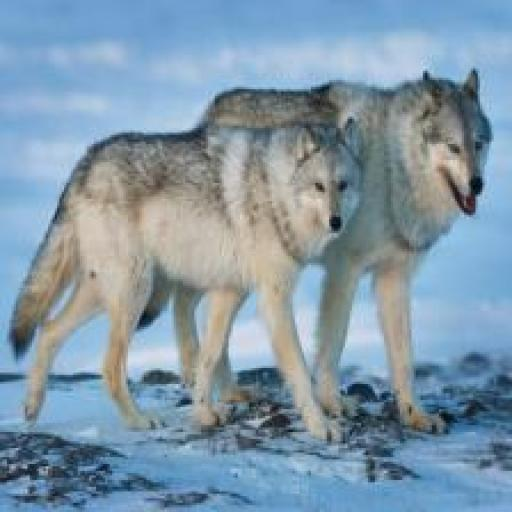wolf: (196, 57, 511, 490), (9, 100, 365, 462)
